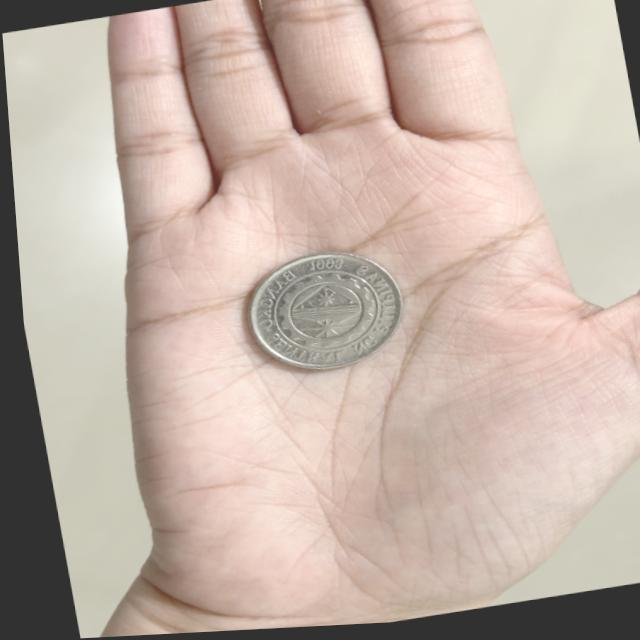1_Old_Back: (254, 264, 379, 366)
